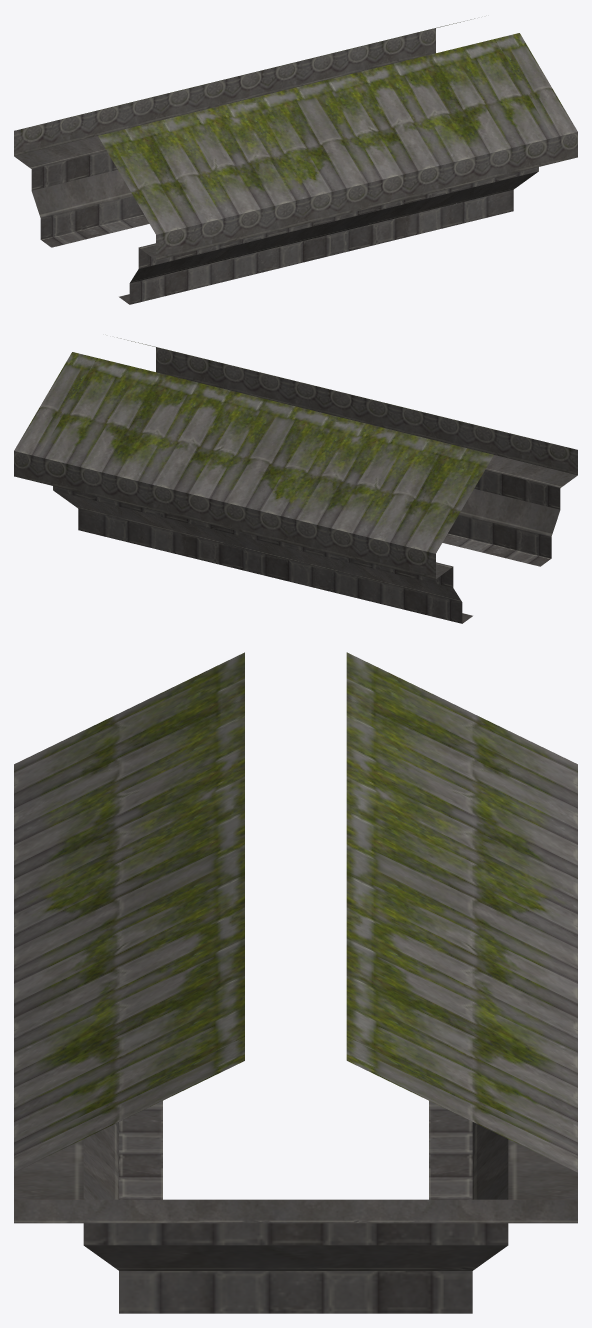
Rendered from b_zx_qiangbi01_03_01_lod1.FBX.
3 renders of one model, top to bottom at view 1: azimuth 30°, elevation 25°; view 2: azimuth 150°, elevation 25°; view 3: azimuth 270°, elevation 25°, orthographic. The views are drawn at different scales.
Parts seen in each view (by area): view 1: b_zx_qiangbi01_03_01_lod1; view 2: b_zx_qiangbi01_03_01_lod1; view 3: b_zx_qiangbi01_03_01_lod1.
Boxes of the visible parts, x1,y1,x2,y2 form: b_zx_qiangbi01_03_01_lod1: (14, 18, 577, 304); b_zx_qiangbi01_03_01_lod1: (14, 337, 577, 623); b_zx_qiangbi01_03_01_lod1: (14, 652, 577, 1313).
Bounding box in the file's own units: 4.52 × 1.49 × 2.64.
